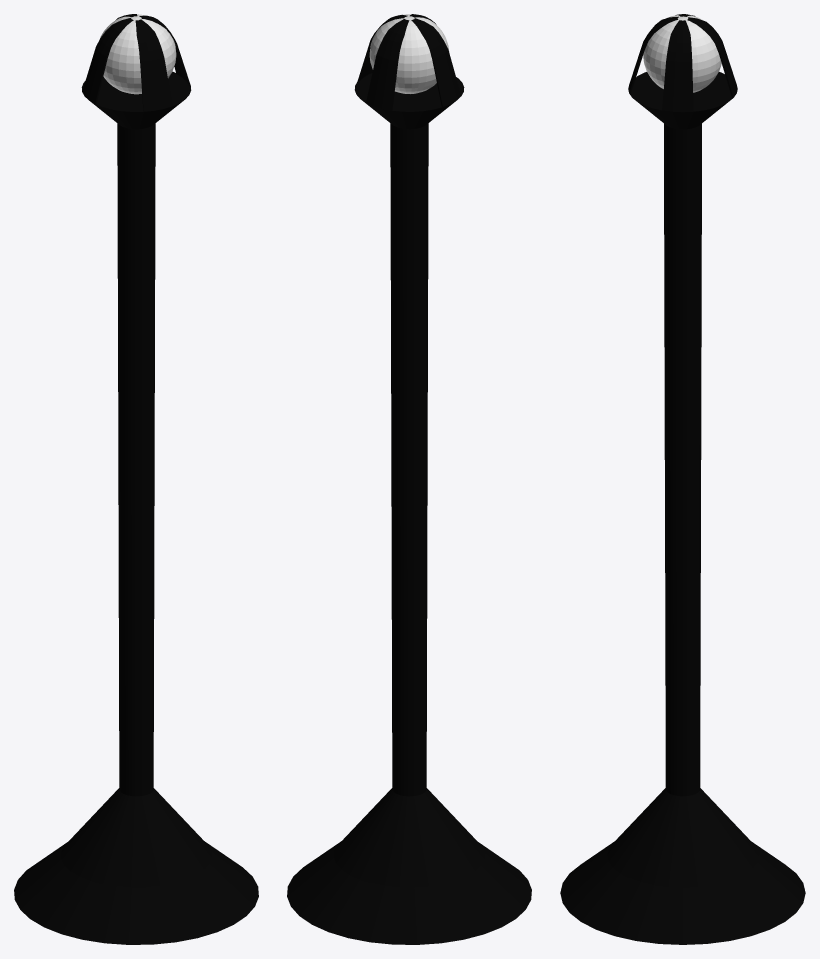
File: DungeonLamp.fbx
3 renders of one model, left to right at view 1: azimuth 30°, elevation 25°; view 2: azimuth 150°, elevation 25°; view 3: azimuth 270°, elevation 25°, orthographic.
Visible parts, largest first — view 1: Cylinder, Sphere; view 2: Cylinder, Sphere; view 3: Cylinder, Sphere.
Part boxes in pixels (x1,y1,x2,y2): Cylinder: [14, 14, 258, 944]; Sphere: [100, 14, 176, 94]; Cylinder: [287, 14, 531, 944]; Sphere: [369, 14, 449, 93]; Cylinder: [560, 14, 805, 944]; Sphere: [643, 15, 721, 92].
Bounding box in the file's own units: 0.4058 × 0.4058 × 1.6.
Materials: 1 (1 with a texture image).
